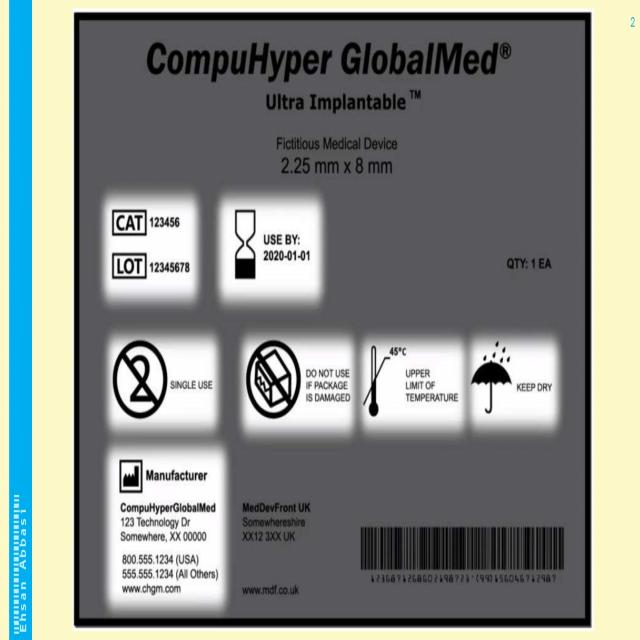Batch Code: (113, 252, 148, 284)
Do not reuse: (110, 336, 171, 427)
Do not use if package is damaged: (246, 336, 302, 422)
Keep Dry: (473, 336, 516, 431)
Manufacturer: (119, 461, 143, 496)
Upper limit of temperature: (363, 340, 410, 427)
Use By Date: (234, 206, 260, 286)
